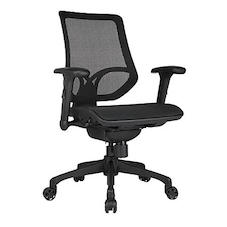chair: (38, 2, 186, 226)
